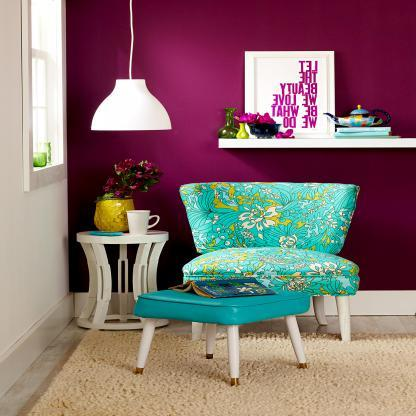chair: (166, 177, 370, 351)
light: (84, 0, 170, 140)
table: (67, 218, 181, 334)
